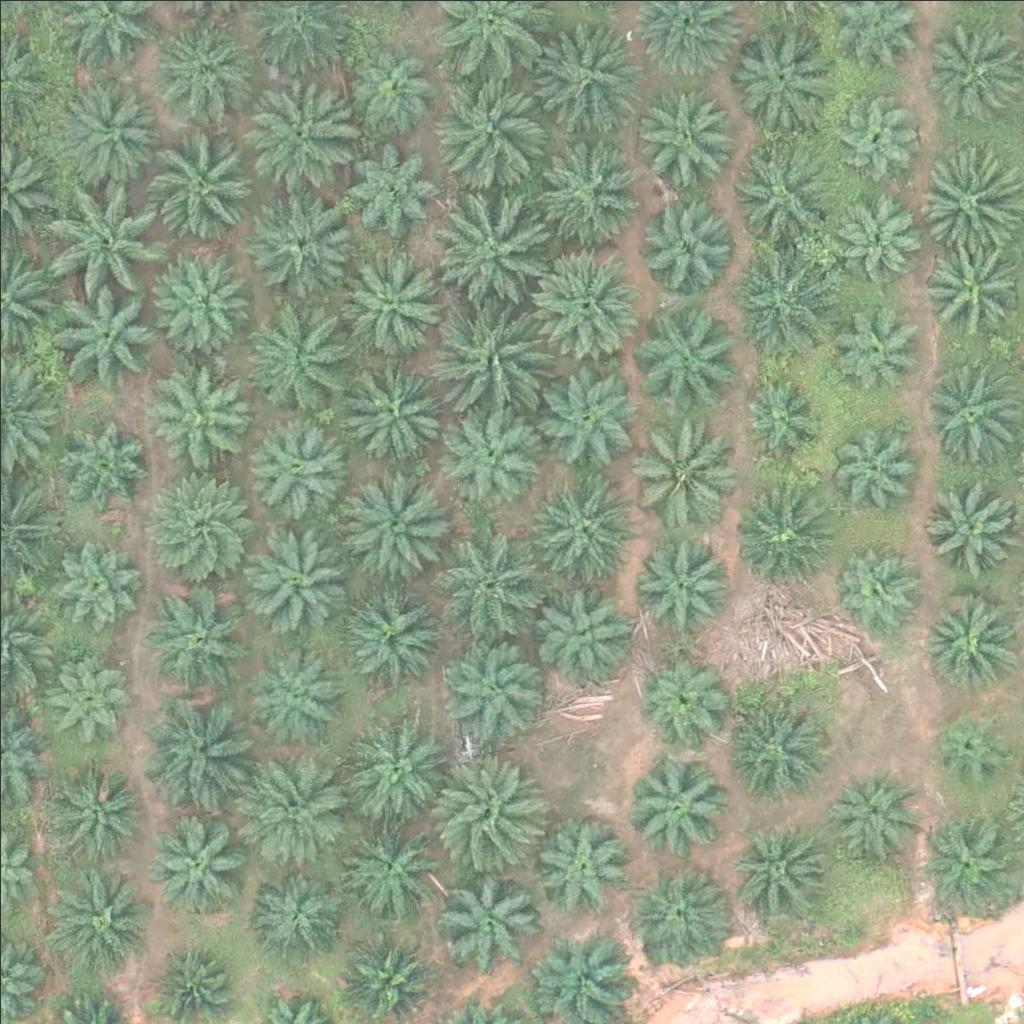Kelapa_Sawit: (246, 179, 359, 293), (528, 22, 641, 136), (240, 753, 353, 867), (53, 74, 166, 187), (143, 127, 256, 240), (438, 297, 551, 410), (429, 68, 542, 181), (528, 133, 641, 246), (631, 296, 744, 409), (725, 141, 838, 254), (724, 241, 837, 354), (148, 476, 261, 589), (241, 519, 354, 632), (530, 475, 643, 588), (144, 697, 256, 811), (52, 178, 164, 291), (240, 298, 352, 411), (239, 66, 351, 179), (334, 245, 446, 358), (433, 185, 545, 298), (530, 249, 642, 362), (336, 470, 448, 583), (432, 525, 544, 638), (438, 635, 550, 748), (431, 755, 543, 868), (622, 412, 734, 525), (916, 810, 1016, 911), (148, 808, 248, 909), (436, 871, 536, 972), (630, 867, 730, 968), (730, 818, 830, 919), (150, 12, 250, 113), (144, 249, 244, 350), (339, 135, 439, 236), (639, 190, 739, 291), (631, 86, 731, 187), (728, 22, 828, 123), (916, 230, 1016, 331), (54, 417, 154, 518), (155, 367, 255, 468), (246, 418, 346, 519), (247, 647, 347, 748), (348, 717, 448, 818), (344, 584, 444, 685), (349, 356, 449, 457), (440, 401, 540, 502), (533, 580, 633, 681), (540, 366, 640, 467), (628, 532, 728, 633), (625, 757, 725, 858), (729, 697, 829, 798), (48, 867, 148, 967), (534, 817, 634, 917), (61, 279, 161, 379), (41, 537, 141, 637), (45, 763, 145, 863), (150, 586, 250, 686), (245, 866, 345, 966), (338, 811, 438, 911), (734, 479, 834, 579), (920, 590, 1020, 690), (920, 477, 1020, 577), (921, 362, 1021, 462), (837, 299, 925, 387), (833, 187, 921, 275), (41, 654, 129, 742), (737, 378, 825, 466), (827, 768, 915, 856), (346, 933, 433, 1021), (150, 932, 237, 1020), (340, 44, 427, 132), (832, 90, 919, 178), (638, 658, 725, 746), (831, 424, 918, 512), (834, 547, 921, 635), (932, 710, 1007, 786)
